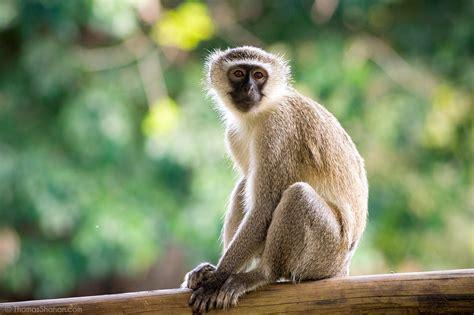monkey: (184, 46, 367, 311)
